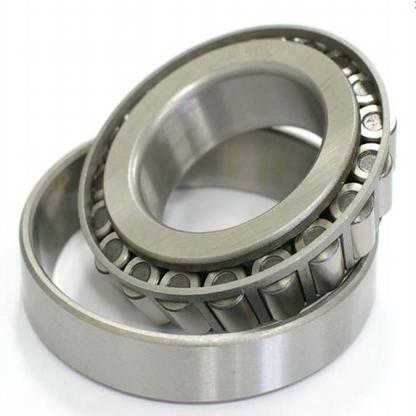FOD: (12, 17, 404, 410)
